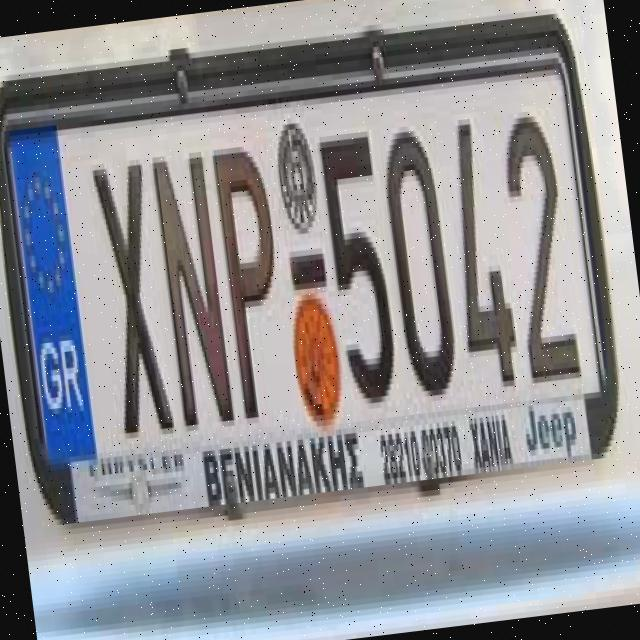EU: (0, 12, 624, 506)
Grece: (7, 119, 101, 482)
